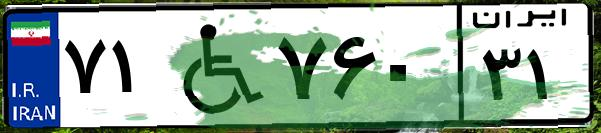0: (385, 28, 445, 110)
1: (525, 38, 570, 115), (110, 28, 158, 98)
3: (475, 38, 525, 113)
6: (330, 28, 385, 110)
7: (270, 28, 330, 110), (57, 26, 110, 100)
ژ (معلولین و جانبازان): (158, 12, 270, 120)
